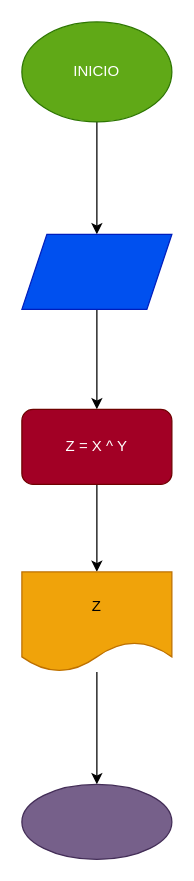
Some shapes in this 194 by 881 pixel diagram are drawn without their labels. The centre of each missing label's shape, as x and y in pixels:
FIN: point (96, 821)
X, Y: point (96, 271)
